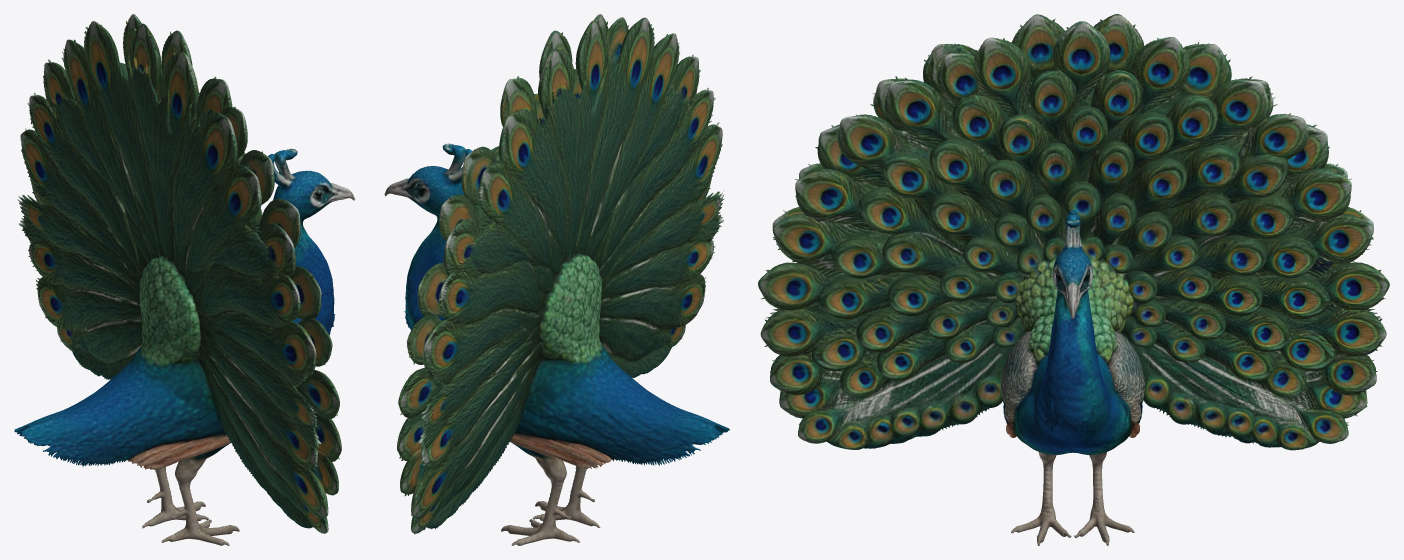
The model's file is peacock-hero.glb.
The picture shows the model from 3 angles, left to right: view 1: azimuth 30°, elevation 25°; view 2: azimuth 150°, elevation 25°; view 3: azimuth 270°, elevation 25°; orthographic projection. The views are drawn at different scales.
Parts seen in each view (by area): view 1: tripo_node_18ecf555-1b6a-46eb-897d-14606db48f8d; view 2: tripo_node_18ecf555-1b6a-46eb-897d-14606db48f8d; view 3: tripo_node_18ecf555-1b6a-46eb-897d-14606db48f8d.
Part boxes in pixels (x1,y1,x2,y2): tripo_node_18ecf555-1b6a-46eb-897d-14606db48f8d: (14, 14, 355, 545); tripo_node_18ecf555-1b6a-46eb-897d-14606db48f8d: (384, 14, 729, 545); tripo_node_18ecf555-1b6a-46eb-897d-14606db48f8d: (758, 14, 1389, 545).
Bounding box in the file's own units: 0.6207 × 0.8665 × 0.9804.
1 material, 1 textured.
